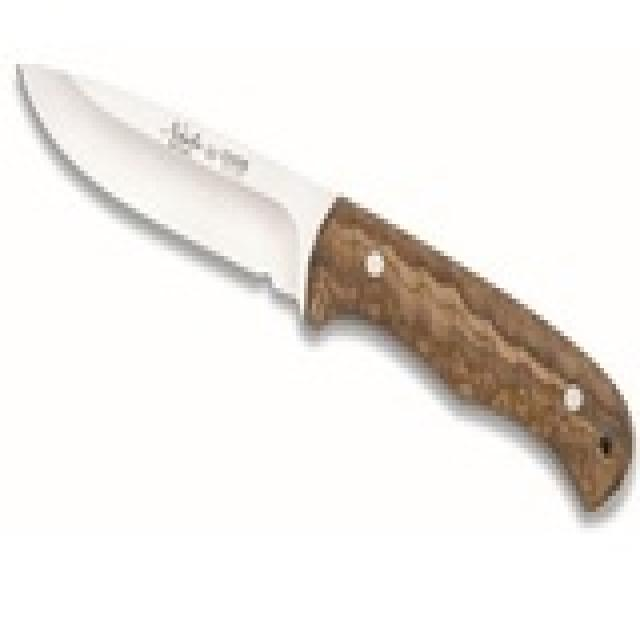Knife: (9, 38, 640, 519)
